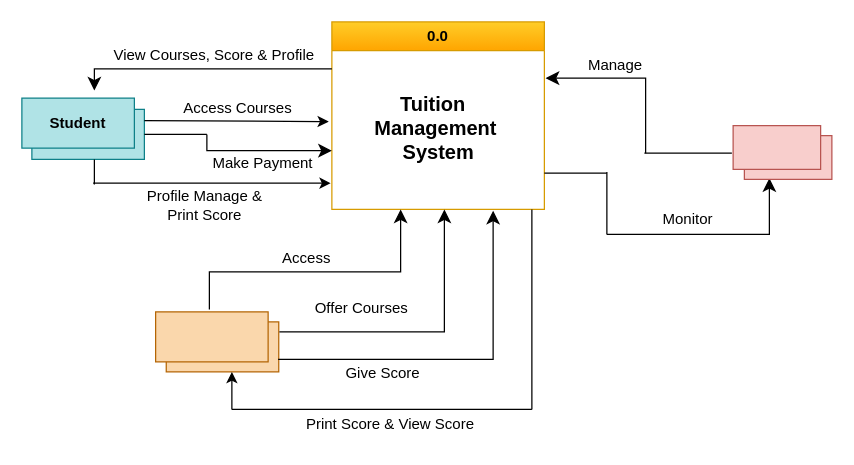
Image size: 854x465. Some labels were removed from this diagram. The centre of each missing label's shape, as x and y in pixels:
"Admin" belongs at (776,146).
"Teacher" belongs at (211,336).
